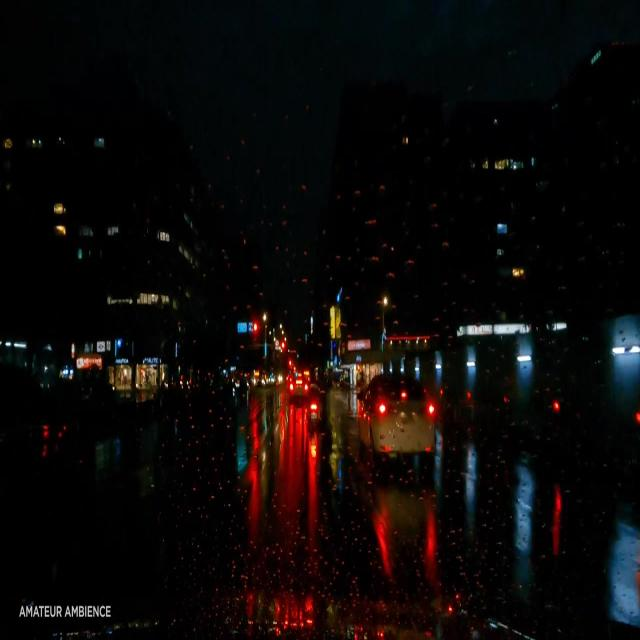Car: (354, 376, 432, 456), (284, 374, 309, 400)
